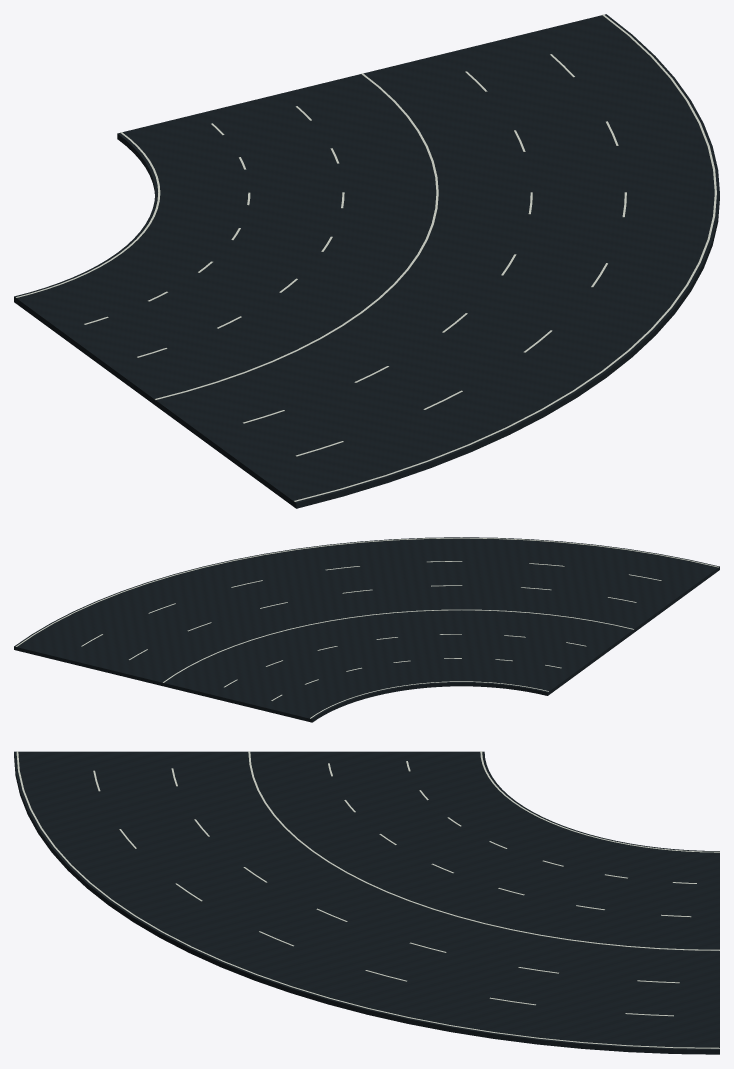
The model's file is Transit_Road_6L_Curve90_R18.glb.
3 views of the same model, one above another, from view 1: azimuth 30°, elevation 25°; view 2: azimuth 150°, elevation 25°; view 3: azimuth 270°, elevation 25° (orthographic). The views are drawn at different scales.
Visible parts, largest first — view 1: Transit_Road_6L_Curve90_R18_Surface, Transit_Road_6L_Curve90_R18_MarkEdge-1, Transit_Road_6L_Curve90_R18_MarkLane3; view 2: Transit_Road_6L_Curve90_R18_Surface, Transit_Road_6L_Curve90_R18_MarkEdge-1, Transit_Road_6L_Curve90_R18_MarkLane3, Transit_Road_6L_Curve90_R18_MarkLane1; view 3: Transit_Road_6L_Curve90_R18_Surface, Transit_Road_6L_Curve90_R18_MarkEdge-1, Transit_Road_6L_Curve90_R18_MarkLane3.
Part boxes in pixels (x1=…): Transit_Road_6L_Curve90_R18_Surface: x1=14, y1=14, x2=719, y2=508; Transit_Road_6L_Curve90_R18_MarkEdge-1: x1=294, y1=14, x2=716, y2=501; Transit_Road_6L_Curve90_R18_MarkLane3: x1=155, y1=73, x2=438, y2=399; Transit_Road_6L_Curve90_R18_Surface: x1=14, y1=537, x2=719, y2=722; Transit_Road_6L_Curve90_R18_MarkEdge-1: x1=15, y1=537, x2=718, y2=646; Transit_Road_6L_Curve90_R18_MarkLane3: x1=163, y1=609, x2=633, y2=682; Transit_Road_6L_Curve90_R18_MarkLane1: x1=81, y1=561, x2=661, y2=646; Transit_Road_6L_Curve90_R18_Surface: x1=14, y1=751, x2=719, y2=1054; Transit_Road_6L_Curve90_R18_MarkEdge-1: x1=16, y1=751, x2=719, y2=1048; Transit_Road_6L_Curve90_R18_MarkLane3: x1=248, y1=751, x2=719, y2=950.
Bounding box in the file's own units: 27 × 0.212 × 27.
2 materials, 1 textured.
